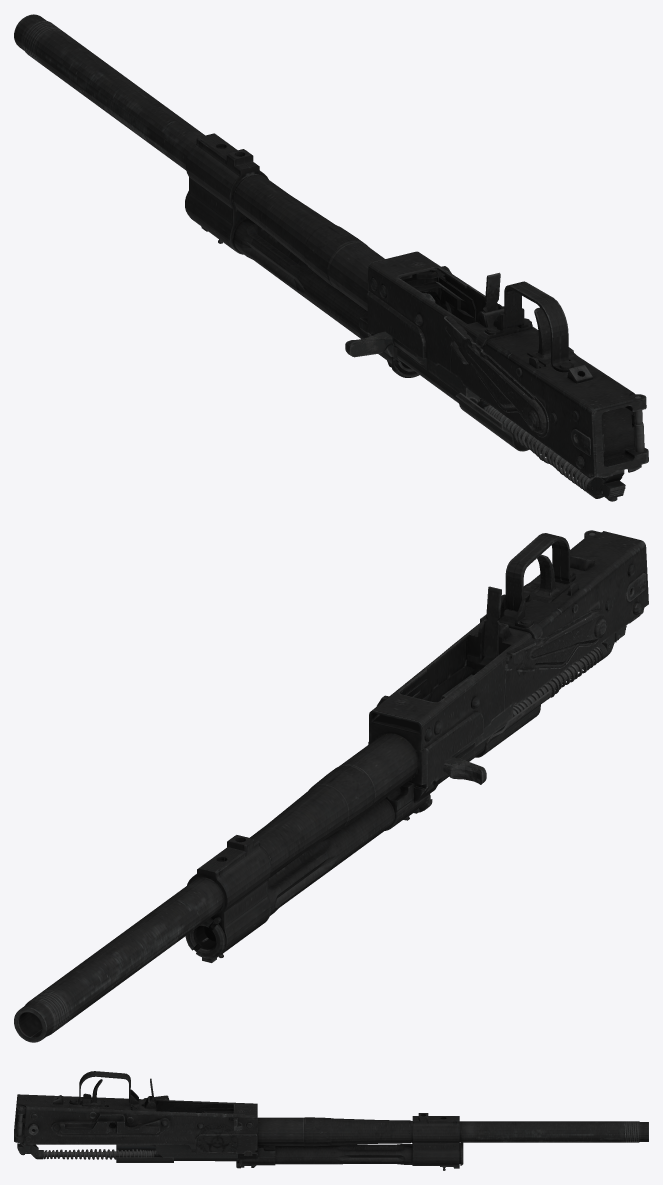
The picture shows the model from 3 angles, top to bottom: view 1: azimuth 30°, elevation 25°; view 2: azimuth 150°, elevation 25°; view 3: azimuth 270°, elevation 25°; orthographic projection. The views are drawn at different scales.
Parts seen in each view (by area): view 1: TW_674fe9a75e51f1c47c04ec23_PZ_Import; view 2: TW_674fe9a75e51f1c47c04ec23_PZ_Import; view 3: TW_674fe9a75e51f1c47c04ec23_PZ_Import.
Part boxes in pixels (left/top/right/bottom): TW_674fe9a75e51f1c47c04ec23_PZ_Import: left=14, top=14, right=648, bottom=501; TW_674fe9a75e51f1c47c04ec23_PZ_Import: left=14, top=530, right=648, bottom=1042; TW_674fe9a75e51f1c47c04ec23_PZ_Import: left=14, top=1071, right=648, bottom=1170.
Bounding box in the file's own units: 0.0405 × 0.3875 × 0.0657.
Materials: 1 (1 with a texture image).
